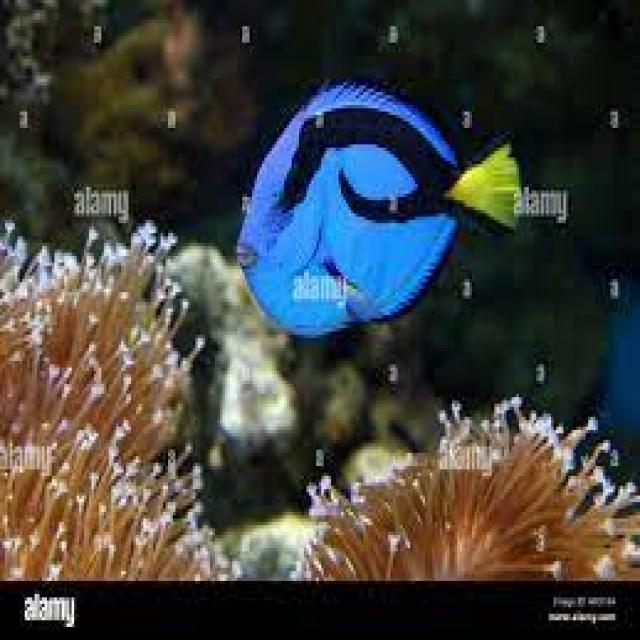TangFish: (242, 70, 524, 338)
